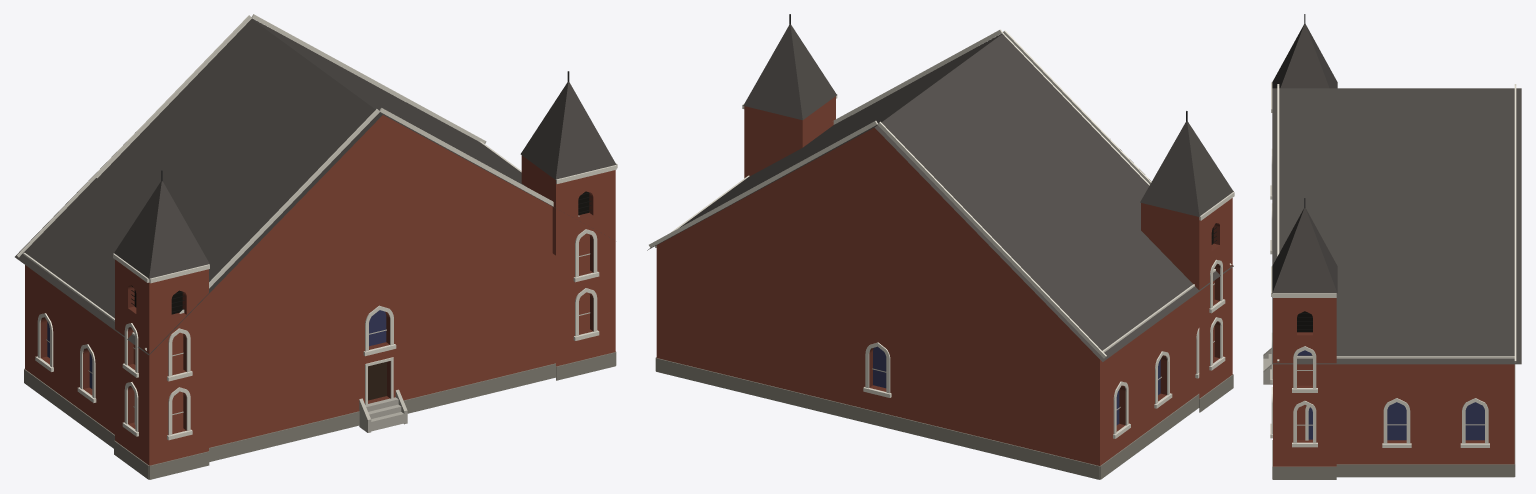
The model's file is ch-mount-pleasant-baptist.glb.
The picture shows the model from 3 angles, left to right: view 1: azimuth 30°, elevation 25°; view 2: azimuth 150°, elevation 25°; view 3: azimuth 270°, elevation 25°; orthographic projection. The views are drawn at different scales.
Visible parts, largest first — view 1: ch_brick, ch_roof, ch_trim, ch_roof2, ch_base, ch_brick2, ch_conc, ch_stain, ch_door; view 2: ch_brick, ch_roof, ch_roof2, ch_base, ch_trim, ch_brick2, ch_stain; view 3: ch_roof, ch_brick, ch_roof2, ch_trim, ch_base, ch_stain, ch_brick2, ch_shadow, ch_conc.
Part boxes in pixels (x1=…): ch_brick: x1=25, y1=115, x2=615, y2=465; ch_roof: x1=15, y1=18, x2=609, y2=354; ch_trim: x1=17, y1=14, x2=617, y2=440; ch_roof2: x1=114, y1=82, x2=616, y2=279; ch_base: x1=24, y1=351, x2=616, y2=479; ch_brick2: x1=40, y1=192, x2=593, y2=433; ch_conc: x1=359, y1=389, x2=407, y2=432; ch_stain: x1=47, y1=310, x2=386, y2=388; ch_door: x1=368, y1=362, x2=386, y2=400; ch_brick: x1=656, y1=96, x2=1232, y2=465; ch_roof: x1=647, y1=33, x2=1233, y2=361; ch_roof2: x1=743, y1=24, x2=1233, y2=216; ch_base: x1=655, y1=357, x2=1233, y2=479; ch_trim: x1=649, y1=29, x2=1234, y2=438; ch_brick2: x1=869, y1=223, x2=1219, y2=431; ch_stain: x1=873, y1=346, x2=1160, y2=425; ch_roof: x1=1272, y1=88, x2=1521, y2=364; ch_brick: x1=1273, y1=298, x2=1514, y2=466; ch_roof2: x1=1272, y1=24, x2=1337, y2=293; ch_trim: x1=1270, y1=82, x2=1516, y2=447; ch_base: x1=1272, y1=364, x2=1515, y2=479; ch_stain: x1=1297, y1=350, x2=1484, y2=440; ch_brick2: x1=1297, y1=332, x2=1484, y2=443; ch_shadow: x1=1297, y1=311, x2=1312, y2=332; ch_conc: x1=1263, y1=348, x2=1272, y2=384.
Size of the model in its own units: 28.5 by 18.13 by 14.59.
